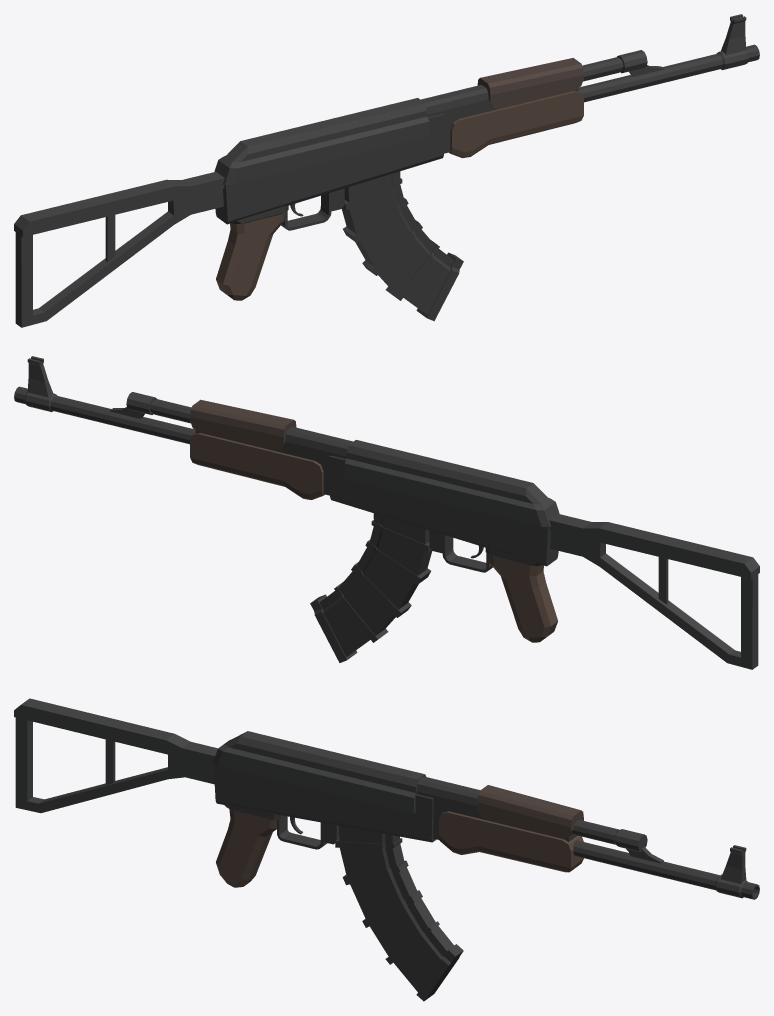
File: AssaultRifle_4.glb
3 renders of one model, top to bottom at view 1: azimuth 30°, elevation 25°; view 2: azimuth 150°, elevation 25°; view 3: azimuth 330°, elevation 25°, orthographic.
Visible parts, largest first — view 1: AssaultRifle_4; view 2: AssaultRifle_4; view 3: AssaultRifle_4.
Boxes of the visible parts, x1,y1,x2,y2 form: AssaultRifle_4: (14,14,759,327); AssaultRifle_4: (14,356,759,669); AssaultRifle_4: (14,698,759,1001).
Size of the model in its own units: 5.49 by 1.6 by 0.196.
